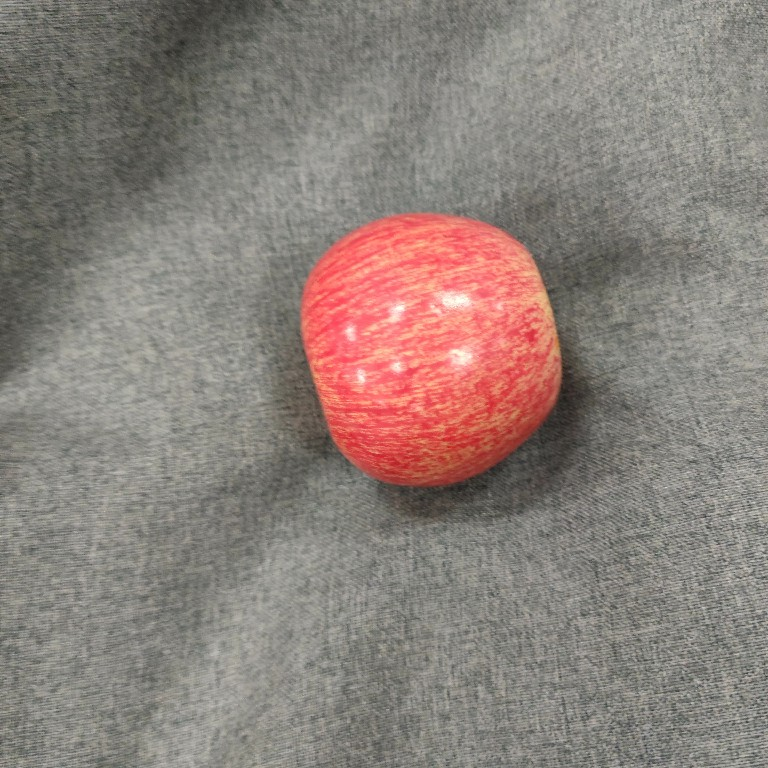fruit_apple: (296, 207, 568, 495)
